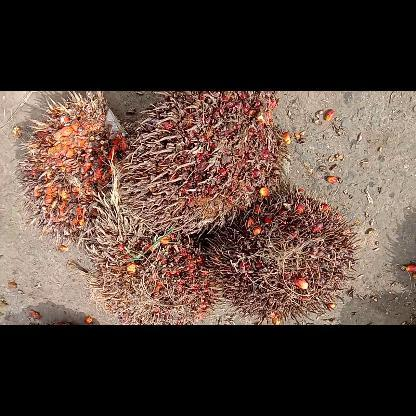Terlalu masak: (118, 91, 288, 235), (204, 188, 360, 324), (16, 91, 127, 249), (86, 191, 216, 324)
